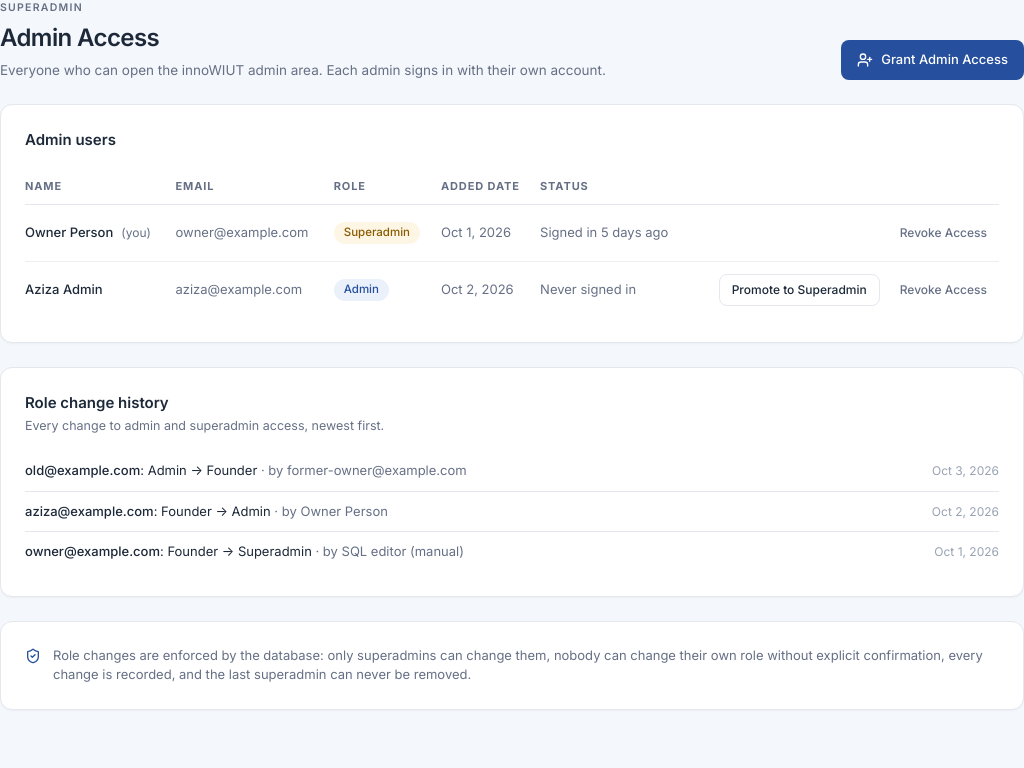
Test case: AdminAccessPage › explains that a missing user needs an account first
This screenshot has width=1024, height=768.
Click the button "Grant Admin Access" at {"x": 933, "y": 60}, box [841, 40, 1023, 80]
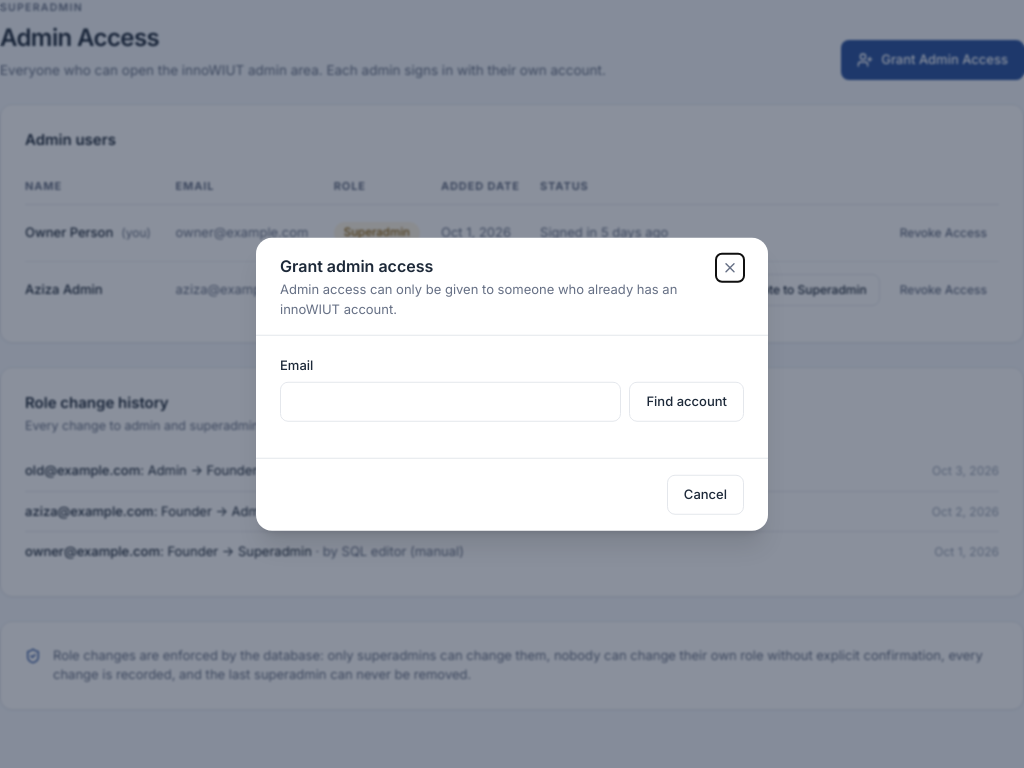
Type "new@example.com" into the field labelled "Email" at {"x": 451, "y": 401}, box [280, 381, 621, 421]
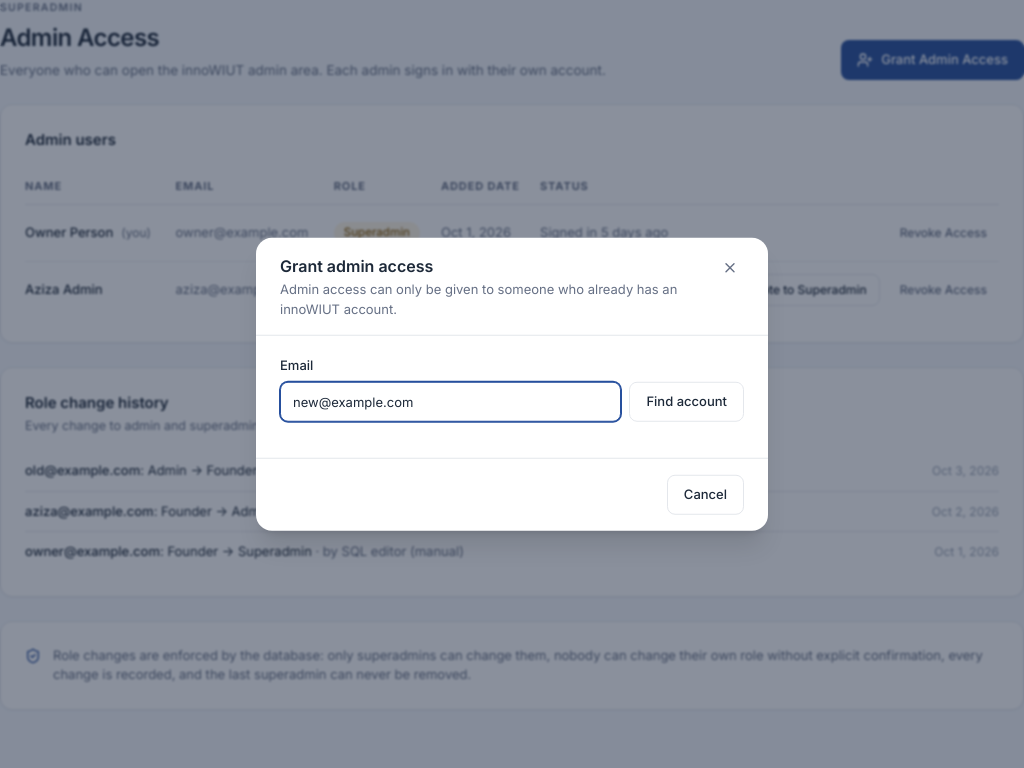
Click the button "Find account" at {"x": 687, "y": 401}, box [629, 381, 744, 421]
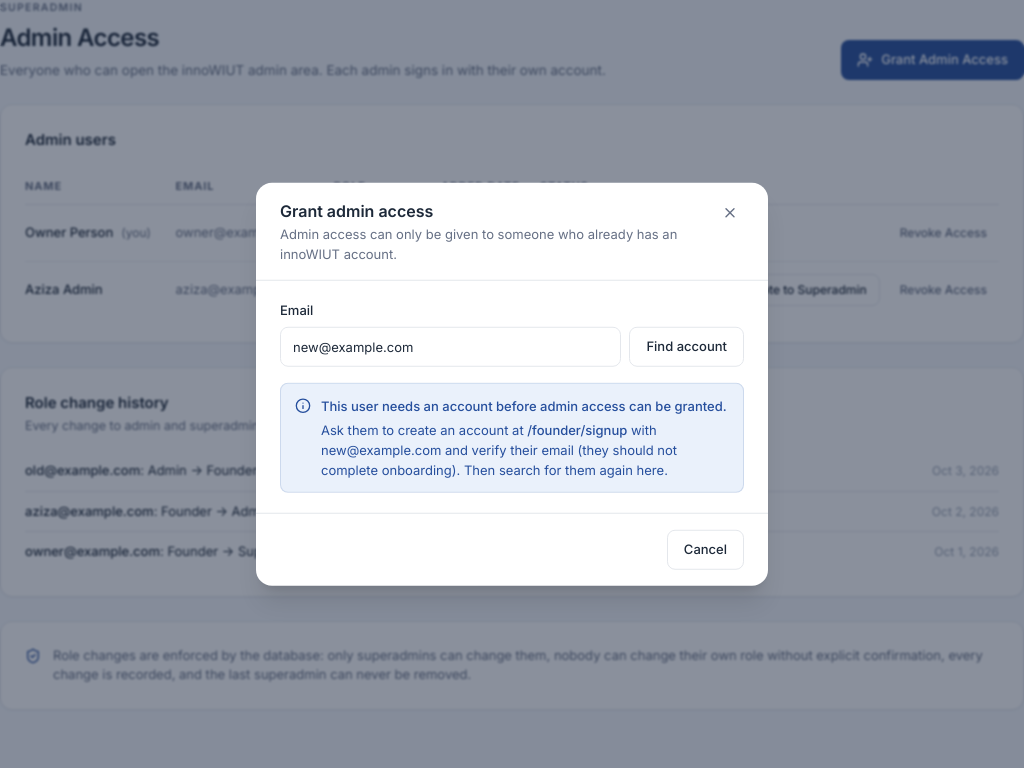
Result: the text "This user needs an account before admin access can be granted." is shown at [321, 395, 729, 415]
